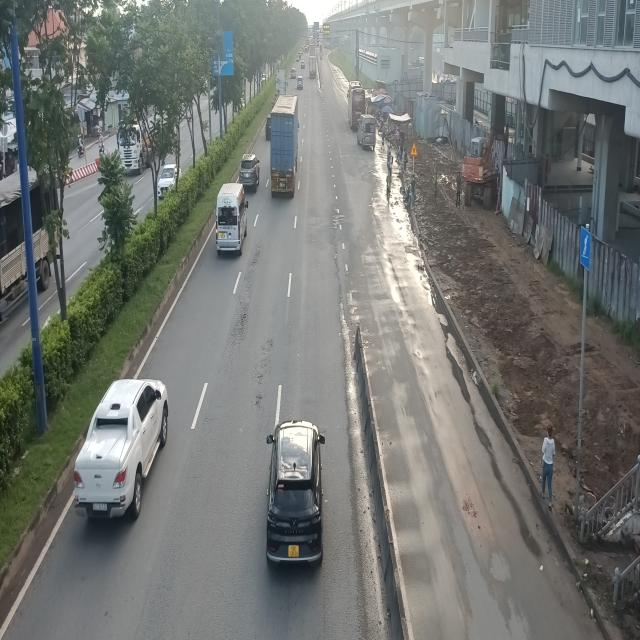car: (75, 376, 171, 520), (265, 421, 327, 572), (239, 154, 261, 193)
coach: (348, 78, 365, 130)
container: (267, 96, 299, 199)
van: (214, 183, 247, 255), (356, 115, 376, 146)
